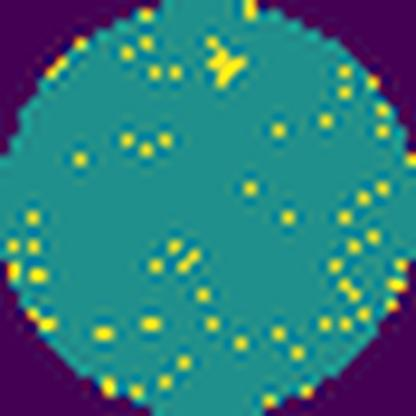Loc: (205, 33, 248, 92)
